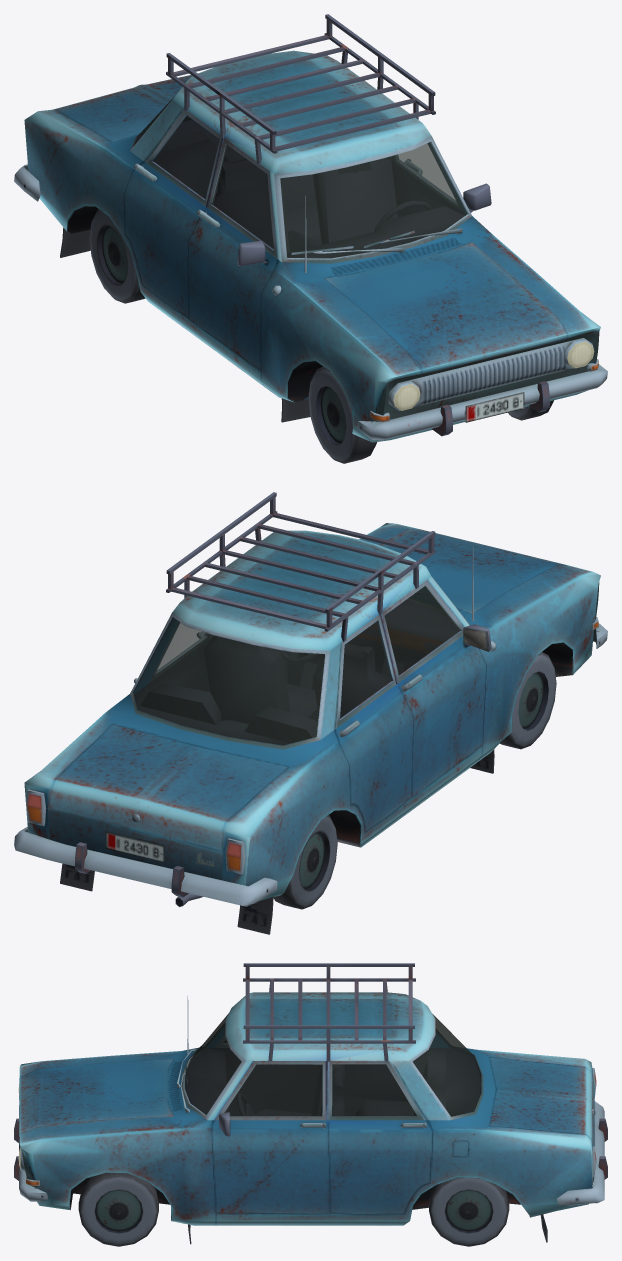
Rendered from car1.glb.
3 views of the same model, one above another, from view 1: azimuth 30°, elevation 25°; view 2: azimuth 150°, elevation 25°; view 3: azimuth 270°, elevation 25° (orthographic). The views are drawn at different scales.
Visible parts, largest first — view 1: MSH_Volga; view 2: MSH_Volga; view 3: MSH_Volga.
Part boxes in pixels (box(x1,y1,x2,y2)): MSH_Volga: box(14, 14, 607, 463); MSH_Volga: box(14, 492, 607, 934); MSH_Volga: box(14, 963, 607, 1246).
Size of the model in its own units: 190 by 192 by 484.
Materials: 3 (3 with a texture image).
